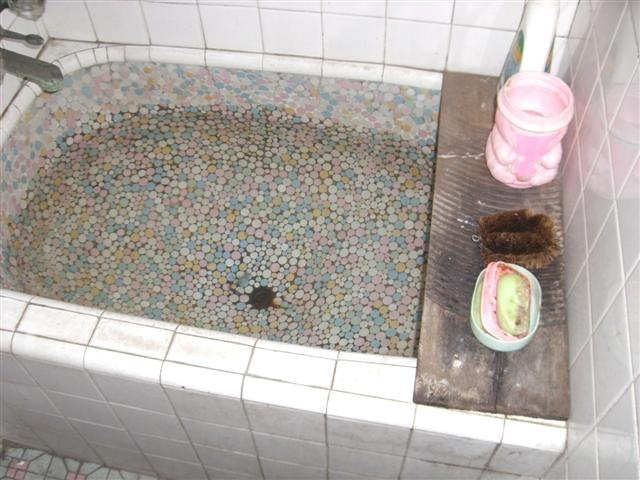bottle: (482, 69, 576, 191)
box: (469, 261, 543, 353)
tub: (1, 42, 570, 454)
